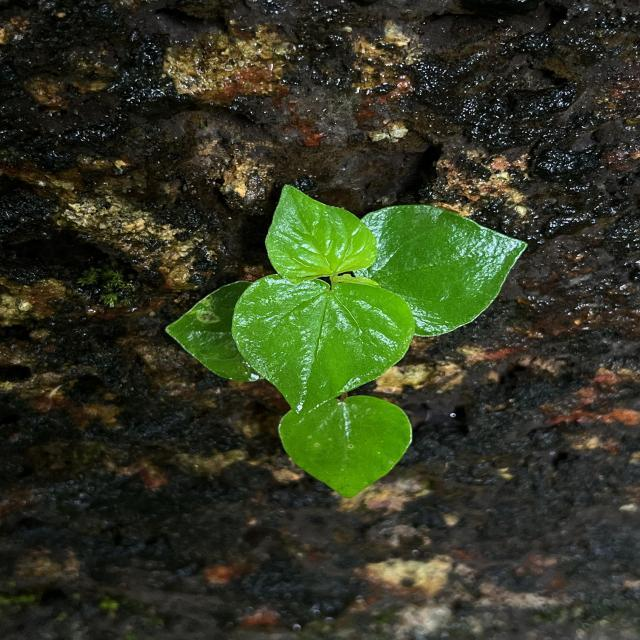Peperomia pellucida: (228, 272, 418, 419), (353, 202, 532, 340), (261, 180, 382, 288)
